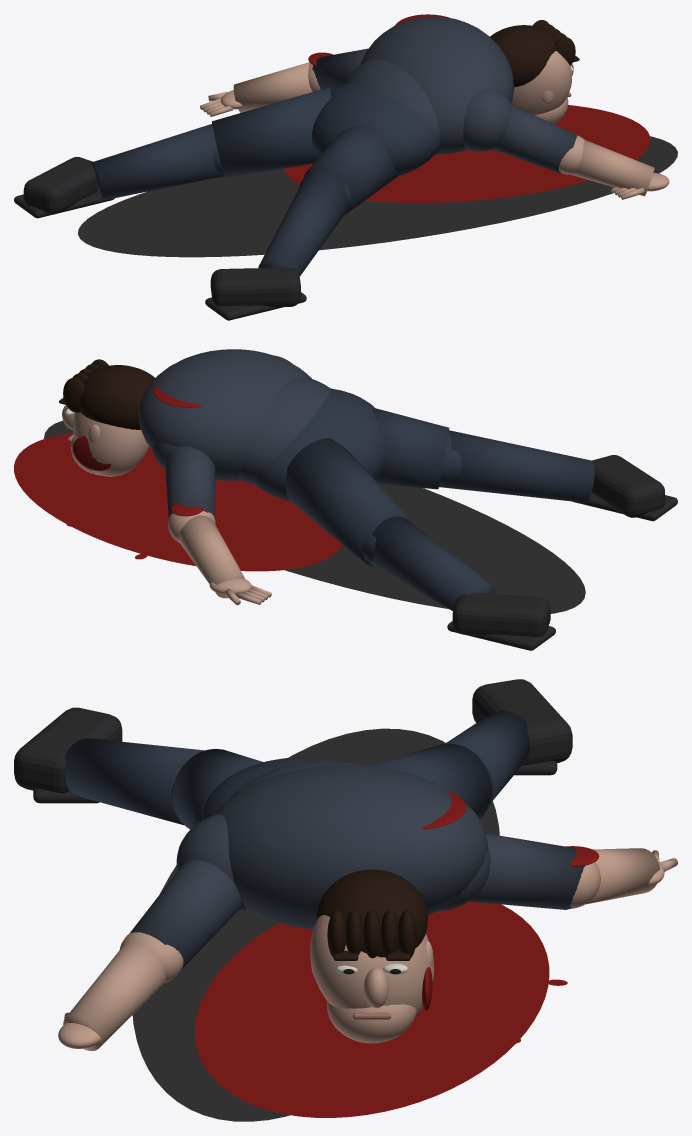
File: deadbody.fbx
The picture shows the model from 3 angles, top to bottom: view 1: azimuth 30°, elevation 25°; view 2: azimuth 150°, elevation 25°; view 3: azimuth 270°, elevation 25°; orthographic projection. The views are drawn at different scales.
Parts seen in each view (by area): view 1: BodyContactShadow, UpperTorso, LeftThigh, MainFloorStain, Pelvis, LeftLowerLeg, RightLowerLeg, RightThigh, SecondaryFloorStain, RightShoe, RightUpperArm, LeftShoe (+11 smaller); view 2: BodyContactShadow, UpperTorso, MainFloorStain, LeftThigh, RightLowerLeg, SecondaryFloorStain, LeftLowerLeg, Pelvis, RightThigh, Abdomen, LeftShoe, Hair (+12 smaller); view 3: MainFloorStain, UpperTorso, BodyContactShadow, RightLowerLeg, RightUpperArm, LeftUpperArm, SmallFloorStain, RightForearm, SecondaryFloorStain, Head, RightShoe, LeftShoe (+20 smaller).
Boxes of the visible parts, bbox=[...] form: BodyContactShadow: bbox=[78, 136, 677, 257]; UpperTorso: bbox=[360, 16, 513, 154]; LeftThigh: bbox=[211, 87, 331, 178]; MainFloorStain: bbox=[284, 105, 650, 202]; Pelvis: bbox=[311, 84, 438, 176]; LeftLowerLeg: bbox=[91, 124, 223, 200]; RightLowerLeg: bbox=[258, 170, 348, 276]; RightThigh: bbox=[304, 125, 398, 215]; SecondaryFloorStain: bbox=[365, 149, 501, 201]; RightShoe: bbox=[210, 267, 300, 307]; RightUpperArm: bbox=[492, 105, 577, 173]; LeftShoe: bbox=[23, 156, 98, 214]; BodyContactShadow: bbox=[44, 420, 585, 613]; UpperTorso: bbox=[138, 349, 311, 480]; MainFloorStain: bbox=[14, 433, 342, 571]; LeftThigh: bbox=[286, 438, 412, 567]; RightLowerLeg: bbox=[439, 430, 594, 502]; SecondaryFloorStain: bbox=[137, 481, 328, 542]; LeftLowerLeg: bbox=[369, 516, 495, 610]; Pelvis: bbox=[255, 388, 386, 501]; RightThigh: bbox=[372, 408, 449, 489]; Abdomen: bbox=[239, 377, 330, 484]; LeftShoe: bbox=[452, 593, 550, 636]; Hair: bbox=[79, 365, 154, 429]; MainFloorStain: bbox=[195, 901, 549, 1117]; UpperTorso: bbox=[213, 765, 487, 929]; BodyContactShadow: bbox=[132, 728, 499, 1121]; RightLowerLeg: bbox=[65, 738, 204, 825]; RightUpperArm: bbox=[130, 860, 241, 969]; LeftUpperArm: bbox=[469, 833, 585, 909]; SmallFloorStain: bbox=[271, 1028, 396, 1092]; RightForearm: bbox=[63, 942, 165, 1050]; SecondaryFloorStain: bbox=[264, 923, 458, 1019]; Head: bbox=[310, 915, 434, 1015]; RightShoe: bbox=[14, 707, 122, 793]; LeftShoe: bbox=[472, 679, 572, 765].
Size of what is drawn, in the model's own units: 273 by 63.27 by 190.
